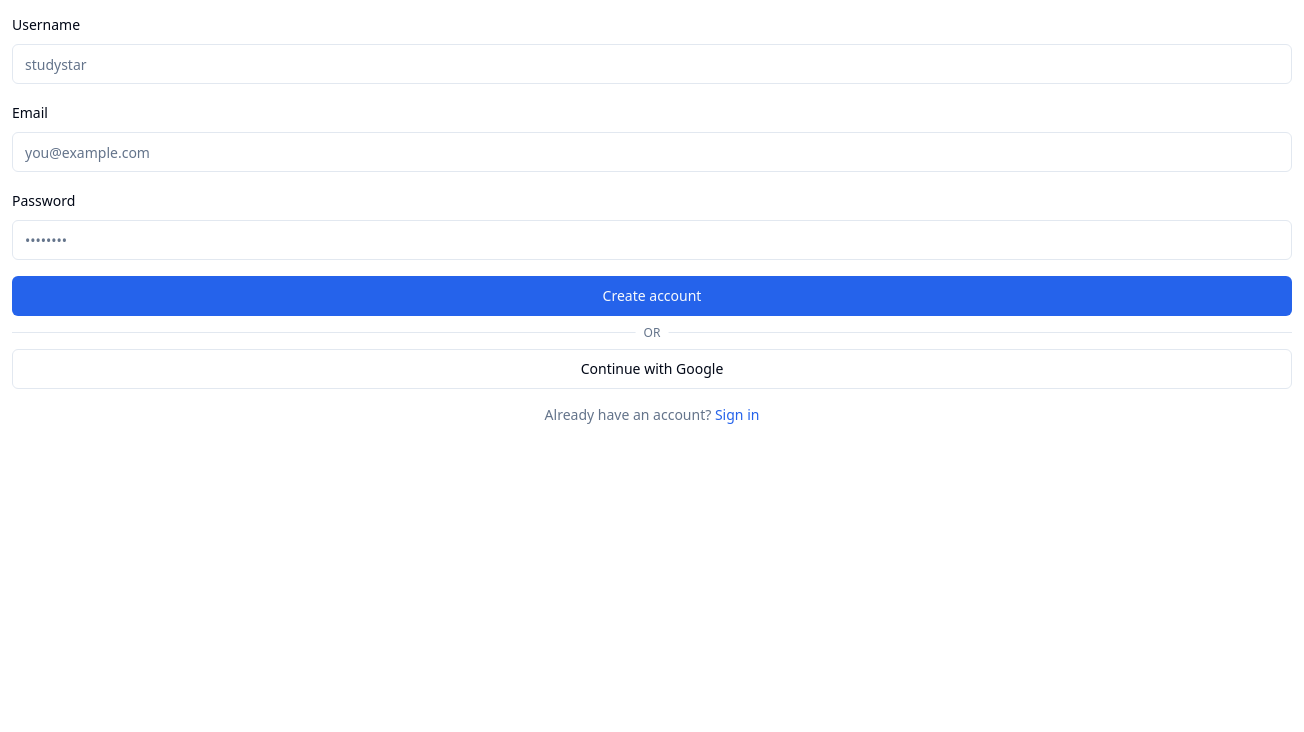
Test case: RegisterForm › shows error for username shorter than 3 characters
The width and height of the screenshot is (1304, 732).
Step 1. Type "ab" into the field with placeholder "studystar" → (652, 64), box [12,44,1292,84]
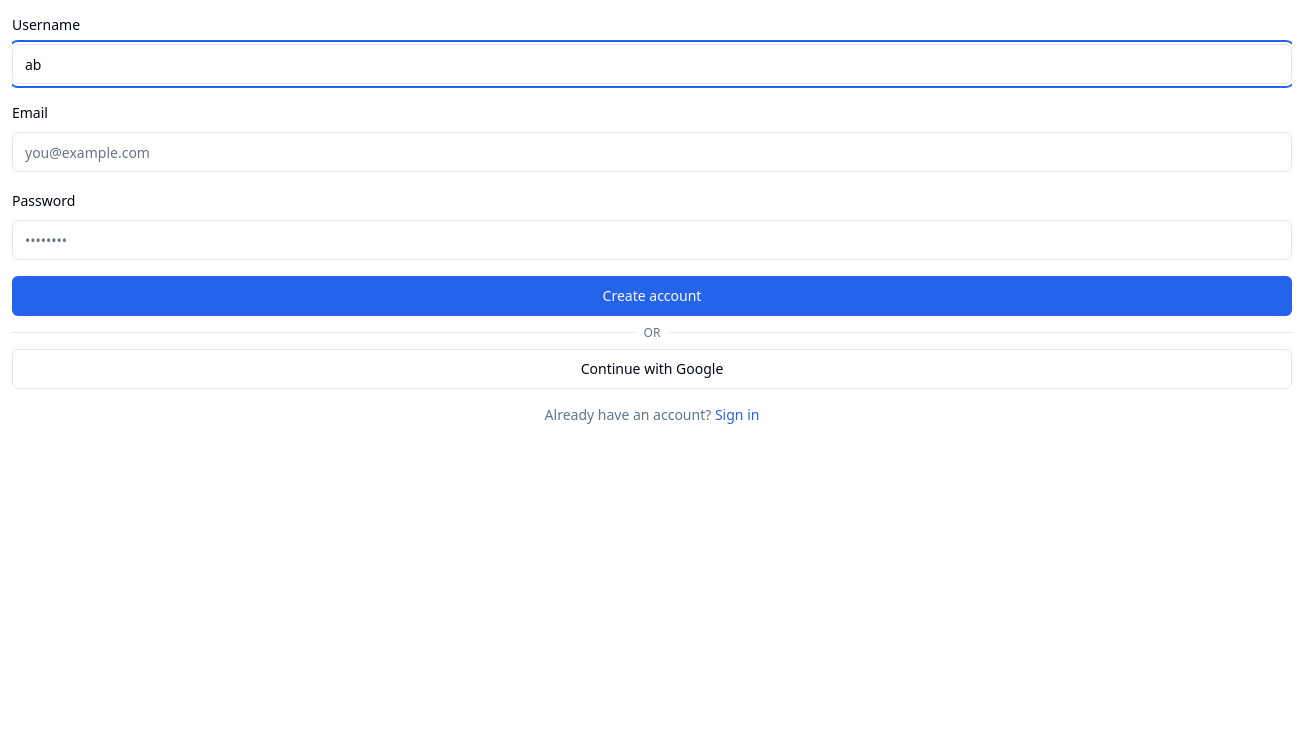
Step 2. Click the button "Create account" → (652, 296), box [12,276,1292,316]
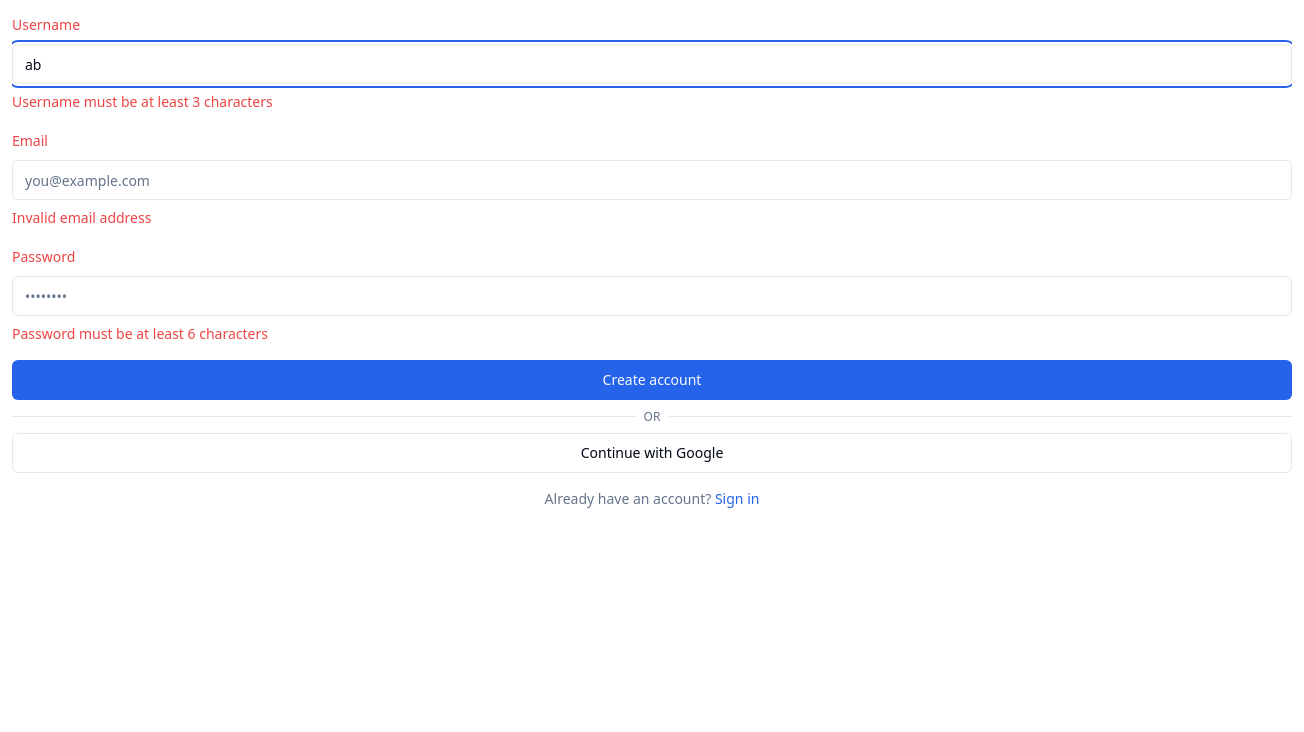
Expected: the text "Username must be at least 3 characters" is shown, [12,92,273,111]
